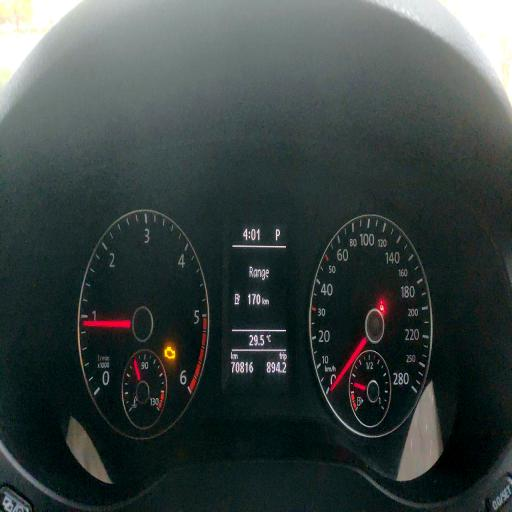check_engine: (164, 347, 175, 359)
tachometer: (77, 206, 209, 440)
